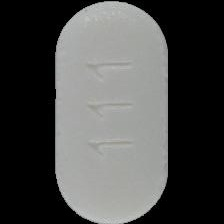63187-487: (0, 0, 224, 224)
